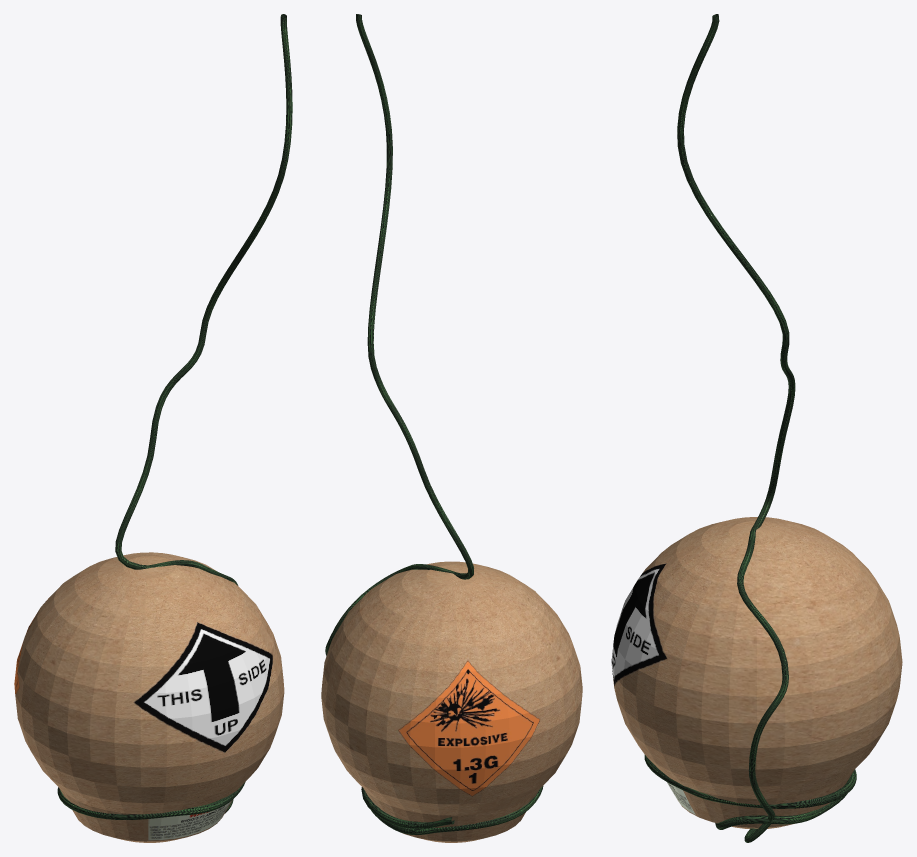
The model's file is 10inchShellTextured_WithFuseV3_.fbx.
3 views of the same model, side by side, from view 1: azimuth 30°, elevation 25°; view 2: azimuth 150°, elevation 25°; view 3: azimuth 270°, elevation 25° (orthographic). The views are drawn at different scales.
Parts seen in each view (by area): view 1: Sphere, BezierCurve.002, BezierCurve; view 2: Sphere, BezierCurve.002, BezierCurve, BezierCurve.001; view 3: Sphere, BezierCurve.002, BezierCurve.001, BezierCurve.
Part boxes in pixels (x1,y1,x2,y2): Sphere: [14, 552, 284, 842]; BezierCurve.002: [115, 14, 292, 569]; BezierCurve: [57, 782, 245, 819]; Sphere: [321, 561, 582, 842]; BezierCurve.002: [356, 14, 473, 579]; BezierCurve: [361, 786, 543, 834]; BezierCurve.001: [325, 564, 455, 655]; Sphere: [611, 517, 902, 828]; BezierCurve.002: [677, 14, 795, 532]; BezierCurve.001: [737, 528, 788, 842]; BezierCurve: [644, 755, 856, 829].
Size of the model in its own units: 26.97 by 85.73 by 26.25.
